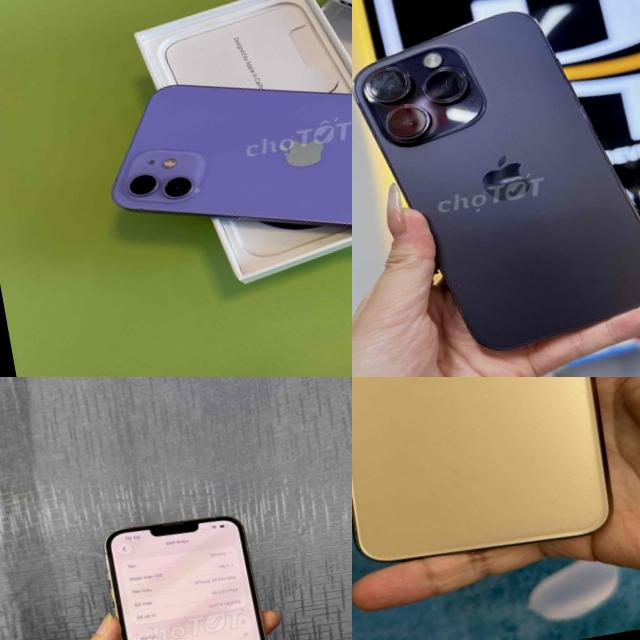gen_11: (352, 377, 609, 559)
gen_12_13: (88, 25, 352, 293), (86, 498, 285, 640)
gen_14: (352, 0, 640, 377)
scratch: (358, 56, 418, 105)
